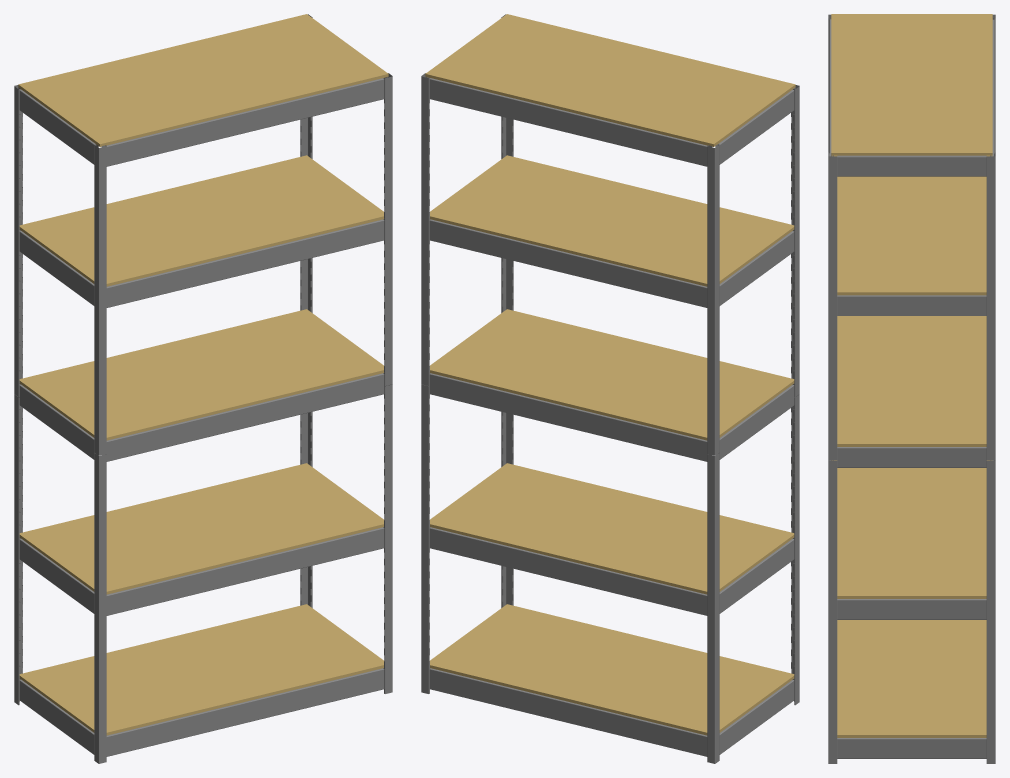
Rendered from shelf.obj.
3 renders of one model, left to right at view 1: azimuth 30°, elevation 25°; view 2: azimuth 150°, elevation 25°; view 3: azimuth 270°, elevation 25°, orthographic.
Visible parts, largest first — view 1: metal_verticals_1, metal_shelf_5; view 2: metal_verticals_1, metal_shelf_5; view 3: metal_verticals_1, metal_shelf_5.
Part boxes in pixels (x1=…): metal_verticals_1: x1=14, y1=14, x2=392, y2=763; metal_shelf_5: x1=19, y1=604, x2=384, y2=756; metal_verticals_1: x1=421, y1=14, x2=799, y2=763; metal_shelf_5: x1=429, y1=604, x2=794, y2=756; metal_verticals_1: x1=828, y1=14, x2=995, y2=763; metal_shelf_5: x1=837, y1=620, x2=986, y2=758.
Size of the model in its own units: 6 by 12.05 by 3.
